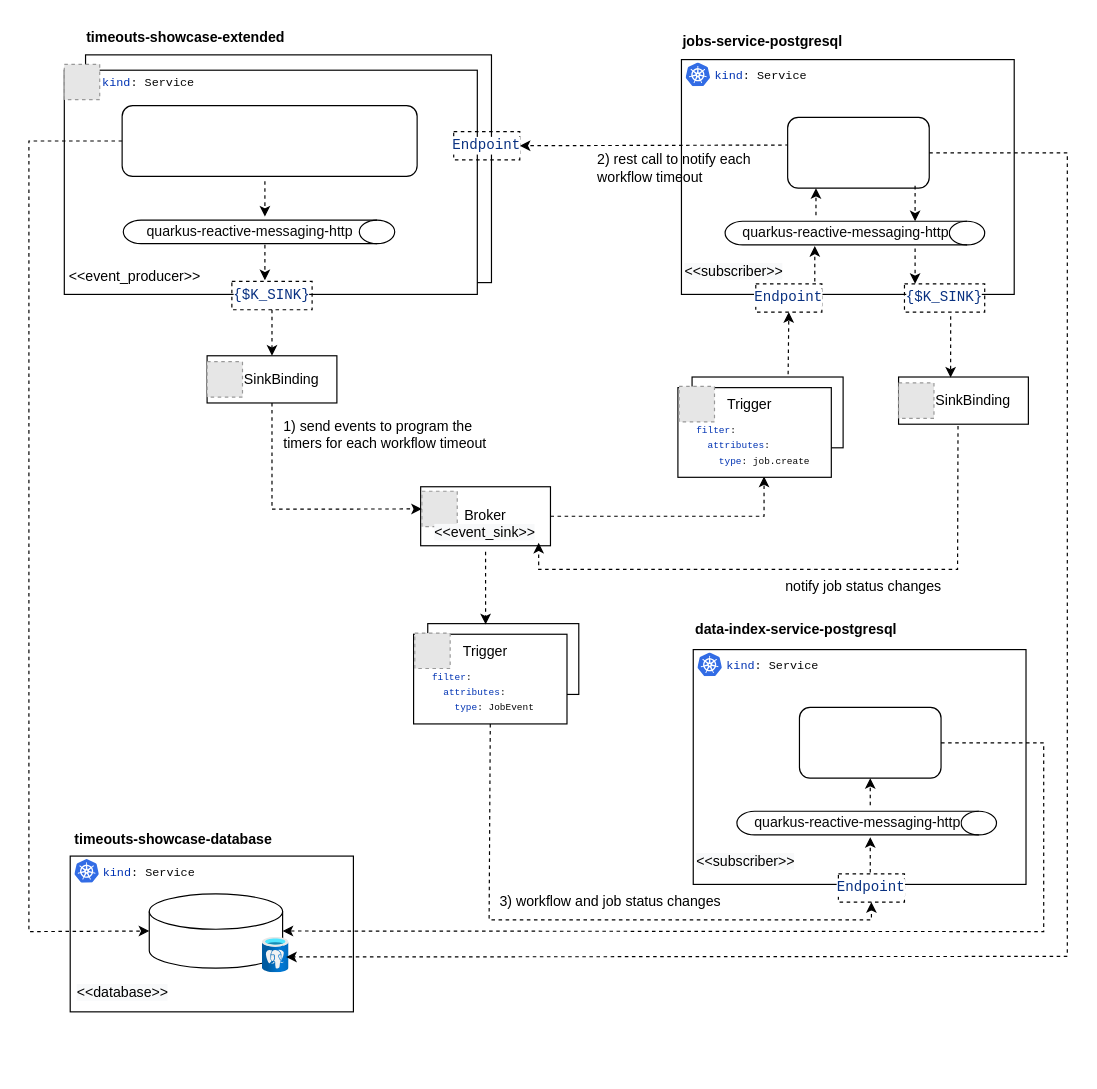
Image size: 1097x1089. Some labels were removed from this diagram. Grey dashed boxes stand in for pictures. Each missing label, with the centre of its shape:
Data Index Service: point 869,742
Jobs Service: point 857,152
kogito-quarkus-serverless-workflow + kogito-addons-quarkus-jobs-knative-eventing: point 269,140
